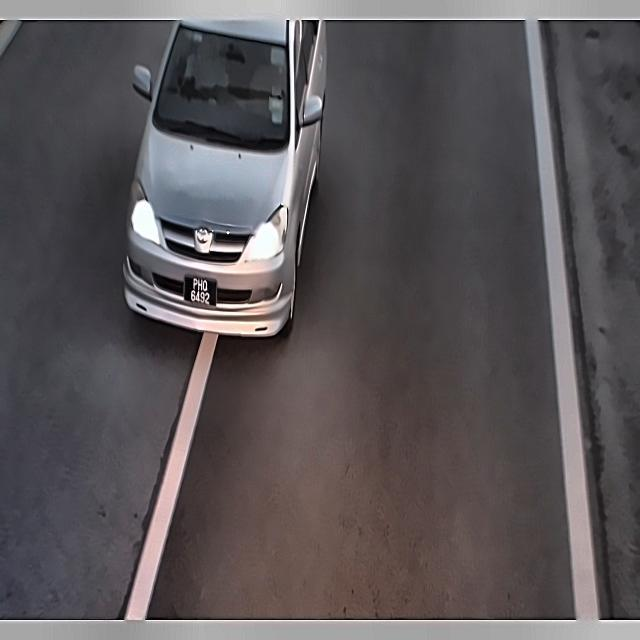car: (187, 271, 211, 312)
